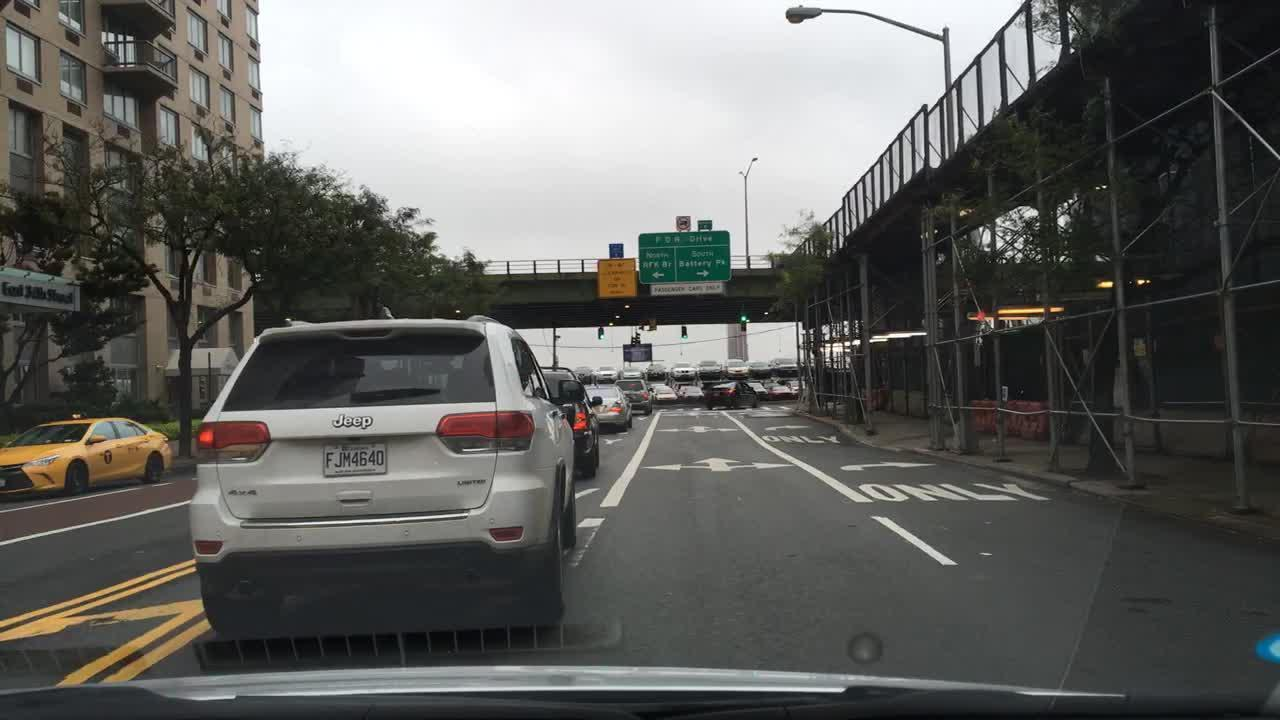jeep: (327, 403, 384, 441)
